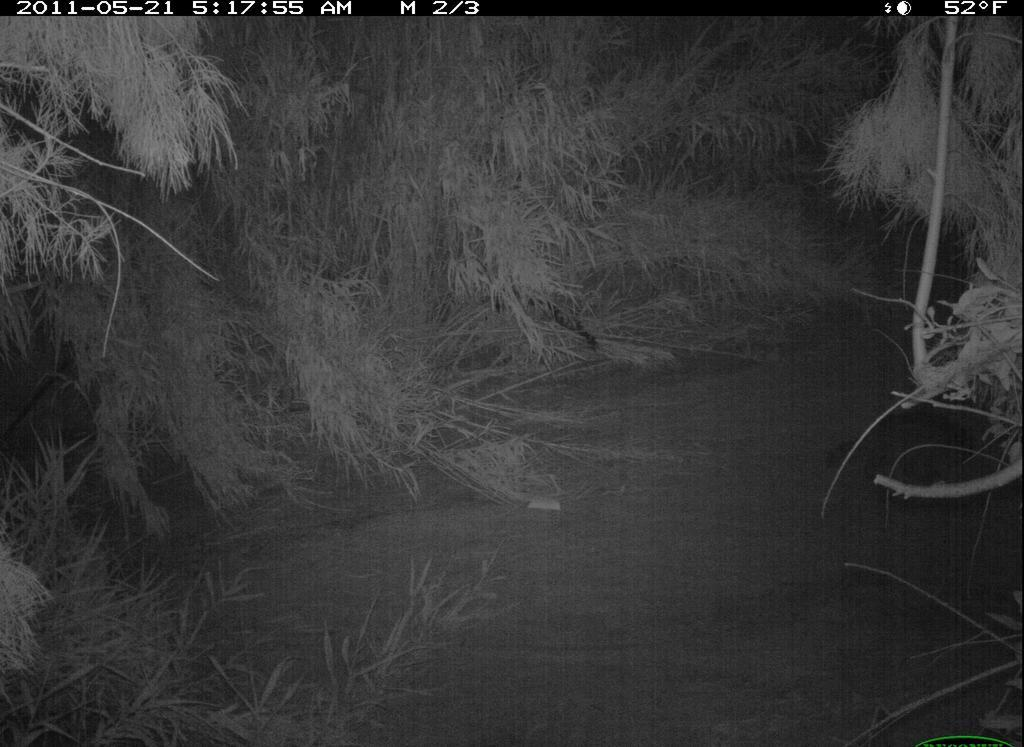raccoon: (815, 406, 986, 496)
